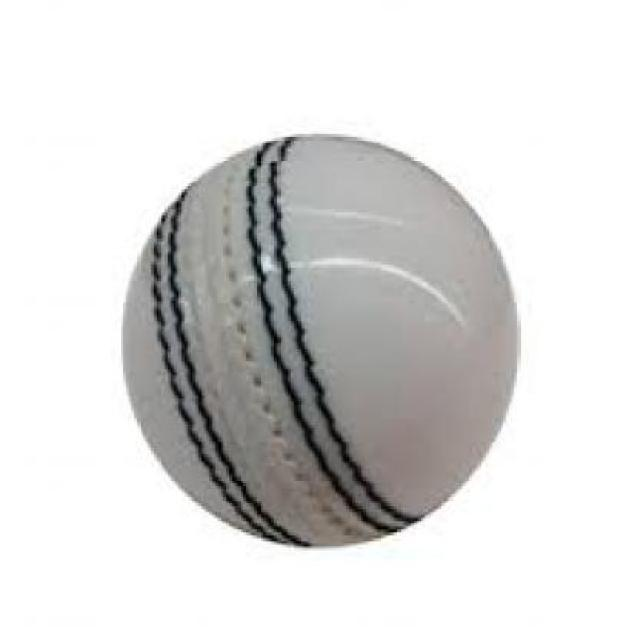ball: (87, 114, 568, 566)
